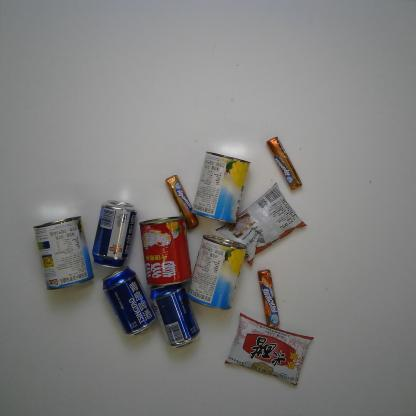Alcohol: (101, 267, 157, 338), (148, 280, 200, 350), (92, 200, 136, 268)
Candy: (266, 136, 302, 191), (164, 174, 199, 230), (256, 268, 281, 329)
Canned Food: (31, 214, 95, 292), (184, 234, 248, 311), (190, 151, 252, 224), (138, 215, 192, 287)
Seasoner: (214, 182, 309, 266), (222, 312, 314, 386)
